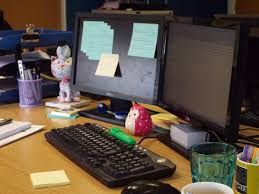Note: (82, 19, 112, 59), (128, 23, 157, 59), (96, 54, 118, 78)
